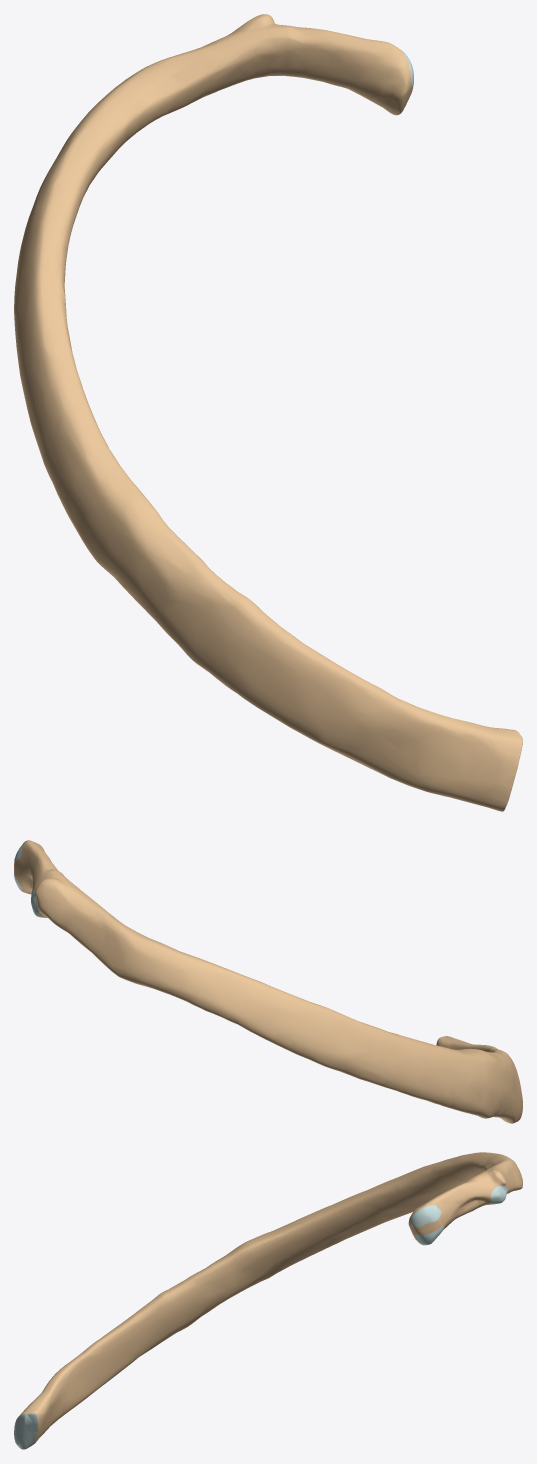
Rendered from 4th_rib.r_Generated_Mesh_From_X3D.860.glb.
3 renders of one model, top to bottom at view 1: azimuth 30°, elevation 25°; view 2: azimuth 150°, elevation 25°; view 3: azimuth 270°, elevation 25°, orthographic. The views are drawn at different scales.
Visible parts, largest first — view 1: 4th_rib.r_Generated_Mesh_From_X3D.860; view 2: 4th_rib.r_Generated_Mesh_From_X3D.860; view 3: 4th_rib.r_Generated_Mesh_From_X3D.860.
Boxes of the visible parts, x1,y1,x2,y2 form: 4th_rib.r_Generated_Mesh_From_X3D.860: [14, 14, 522, 811]; 4th_rib.r_Generated_Mesh_From_X3D.860: [14, 840, 522, 1123]; 4th_rib.r_Generated_Mesh_From_X3D.860: [14, 1152, 522, 1449].
Size of the model in its own units: 0.1096 by 0.1171 by 0.1698.
